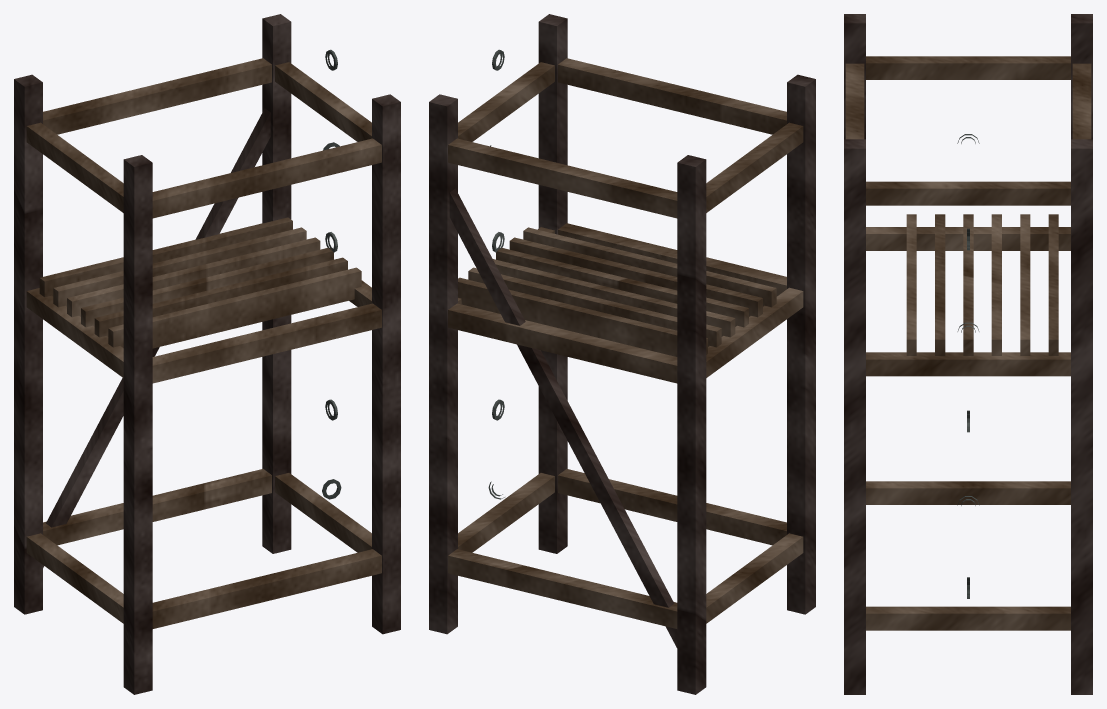
The model's file is 0437_scaffolding_12.glb.
The picture shows the model from 3 angles, left to right: view 1: azimuth 30°, elevation 25°; view 2: azimuth 150°, elevation 25°; view 3: azimuth 270°, elevation 25°; orthographic projection. The views are drawn at different scales.
Parts seen in each view (by area): view 1: wood, wood_dark, iron; view 2: wood, wood_dark, iron; view 3: wood, wood_dark, iron.
Boxes of the visible parts, x1,y1,x2,y2 form: wood: (26,58,381,628); wood_dark: (14,14,400,694); iron: (322,49,341,499); wood: (448,58,803,628); wood_dark: (429,14,815,694); iron: (488,49,504,499); wood: (845,56,1091,630); wood_dark: (844,14,1092,694); iron: (957,134,979,598).
Bounding box in the file's own units: 1.89 × 3.64 × 1.48.
Materials: 3 (3 with a texture image).
